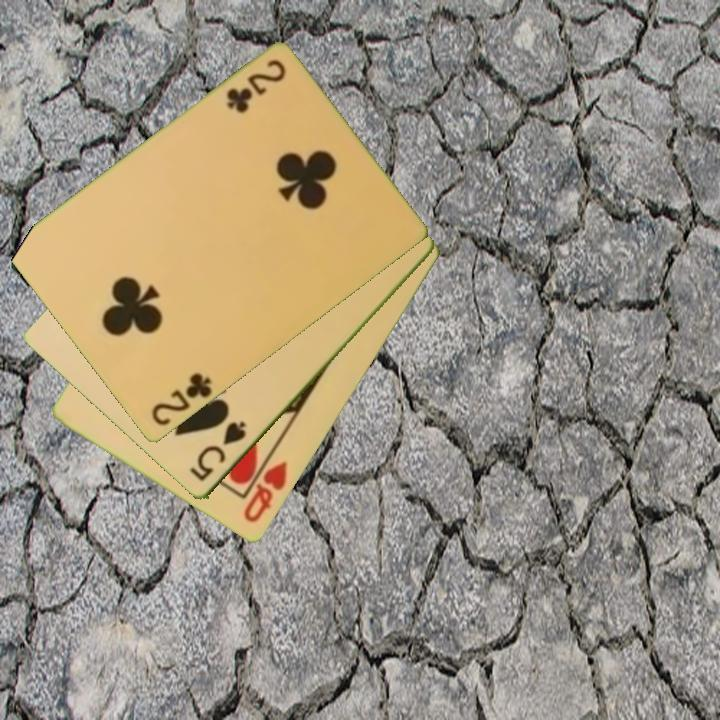2c: (147, 369, 215, 430), (222, 56, 289, 116)
5s: (186, 417, 250, 485)
Qh: (240, 458, 291, 526)
